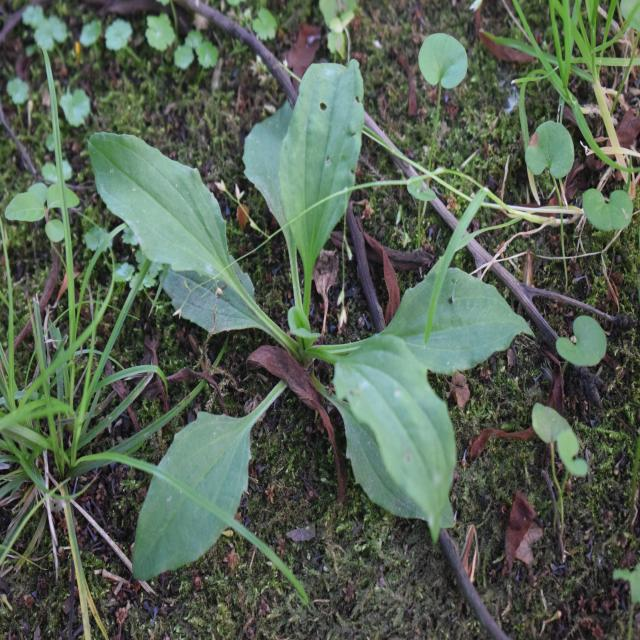plantain: (103, 91, 486, 545)
